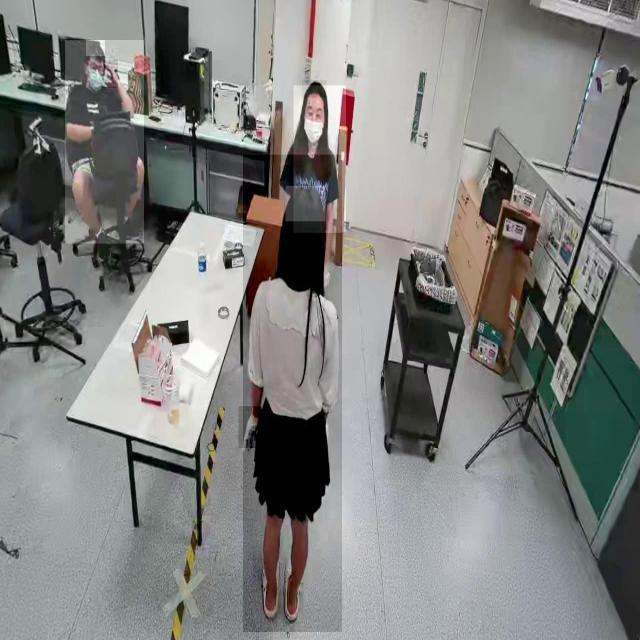face_mask: (300, 106, 327, 146), (88, 58, 106, 92)
hand_glove: (238, 406, 262, 449)
hand_noglove: (104, 59, 118, 89)
head_nohelmet: (286, 186, 326, 222), (302, 80, 327, 99), (86, 40, 106, 57)
person: (243, 155, 343, 633), (65, 40, 145, 244), (294, 85, 346, 233)
